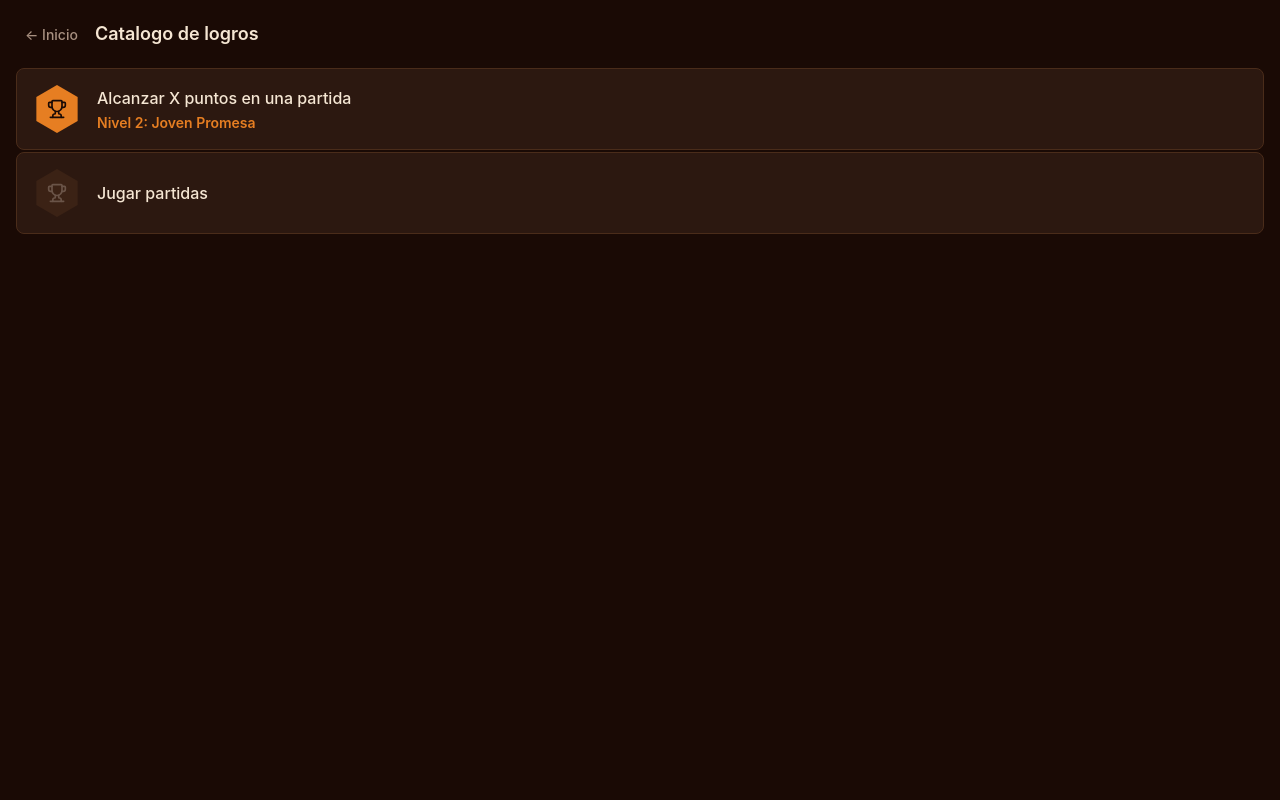
Test case: AchievementCatalog › clicking an achievement with no holders shows empty message
Check: the text "Jugar partidas" is shown, box [97, 181, 208, 205]
Click the button "Jugar partidas": (57, 193) [16, 152, 1264, 234]
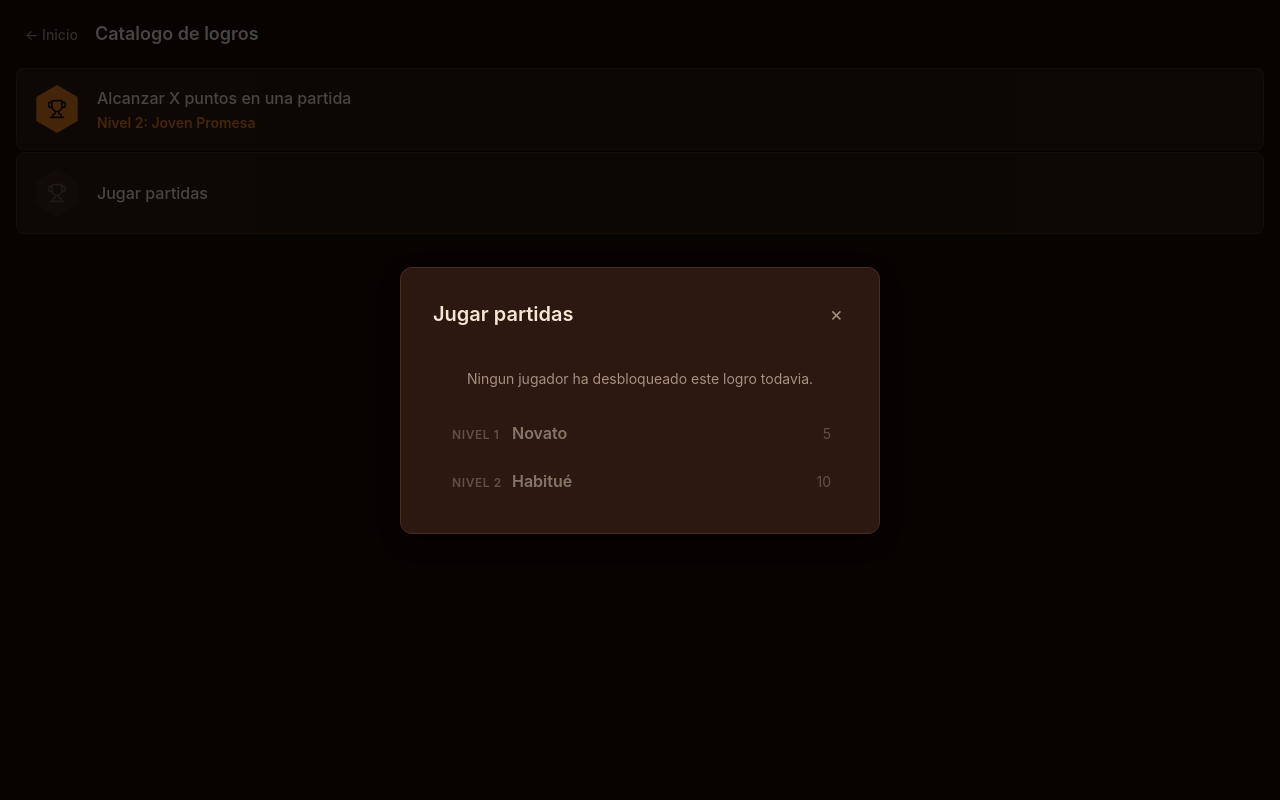
Check: the text "Ningun jugador ha desbloqueado este logro todavia." is shown, box [467, 370, 813, 386]
